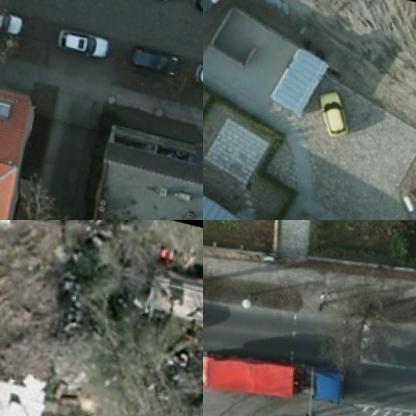car: (310, 76, 354, 134), (128, 32, 182, 70), (54, 16, 109, 52), (0, 0, 23, 31), (191, 47, 202, 81)
